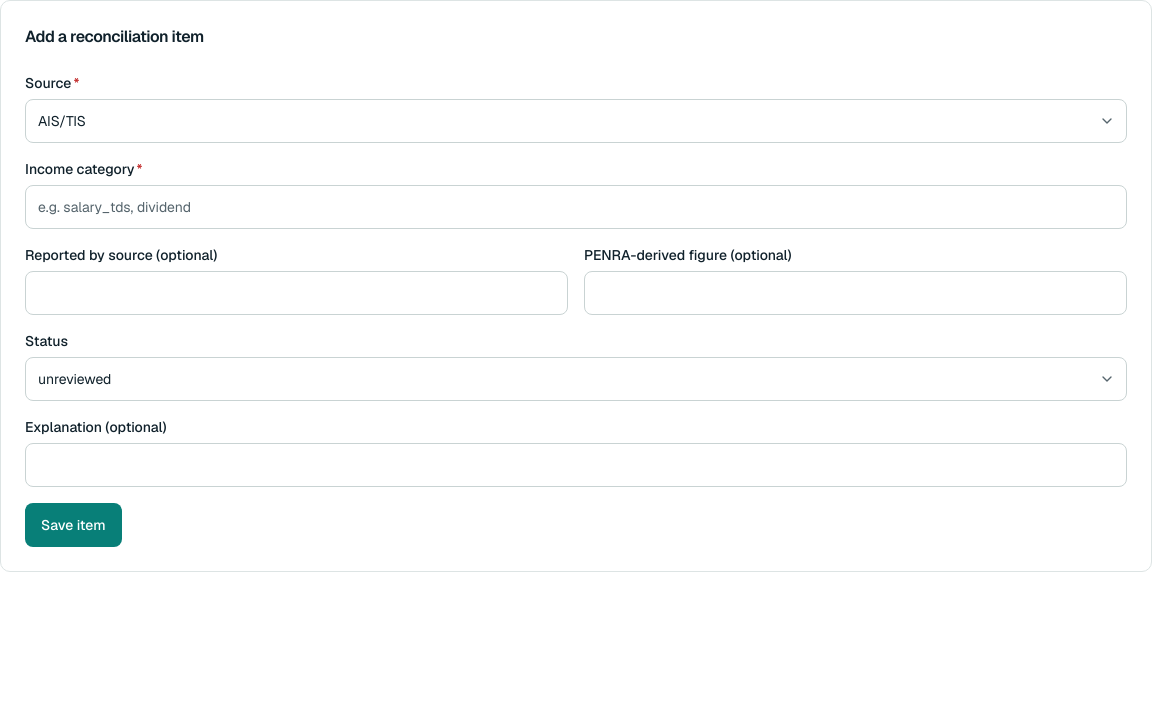
Test: TaxReconciliationForm — reported vs PENRA-derived values › shows a validation error tied to the offending field
Click the button "Save item": (73, 525) left=25, top=503, right=122, bottom=547
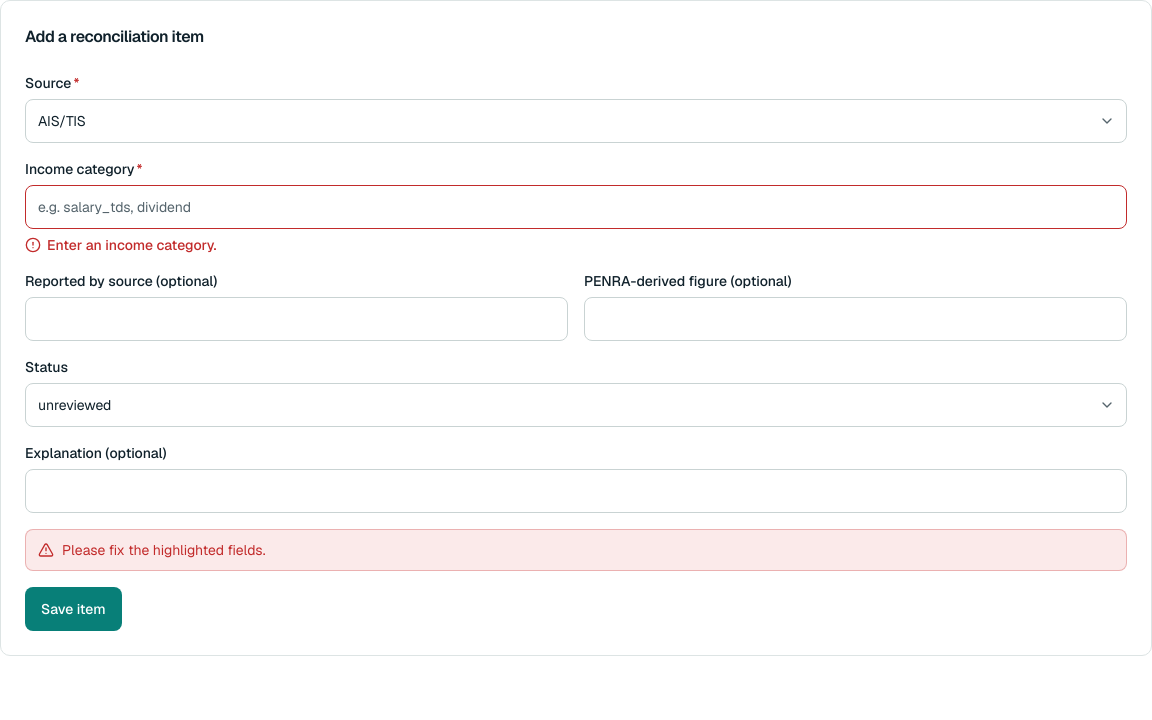
Expected: the text "Enter an income category." is shown, left=25, top=236, right=217, bottom=254
